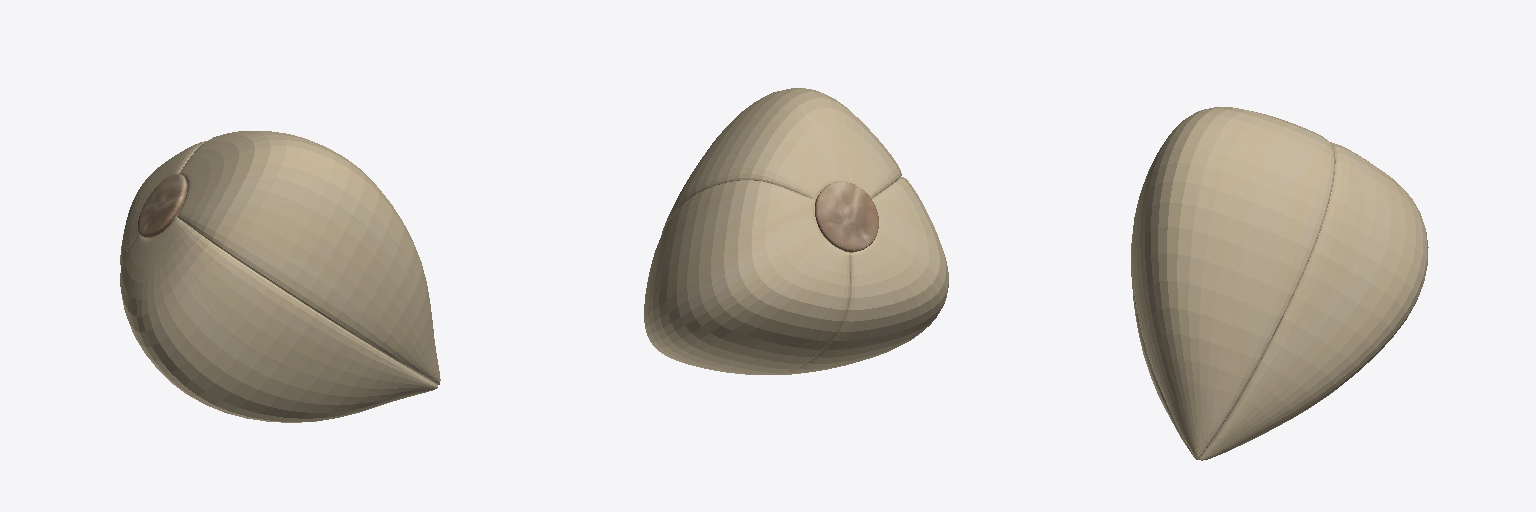
The picture shows the model from 3 angles: view 1: azimuth 30°, elevation 25°; view 2: azimuth 150°, elevation 25°; view 3: azimuth 270°, elevation 25°; orthographic projection.
Parts seen in each view (by area): view 1: GrainBuckwheat021; view 2: GrainBuckwheat021; view 3: GrainBuckwheat021.
Boxes of the visible parts, <box> form: GrainBuckwheat021: <box>120,131,440,422</box>; GrainBuckwheat021: <box>644,88,948,374</box>; GrainBuckwheat021: <box>1131,107,1428,460</box>.
Bounding box in the file's own units: 0.0292 × 0.0273 × 0.0262.
1 materials, 1 textured.